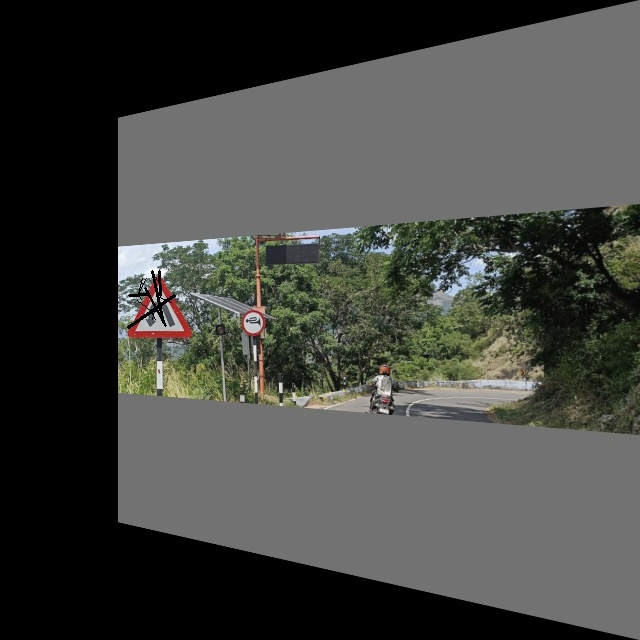Left_Hair_Pin_Bend: (127, 270, 194, 342)
